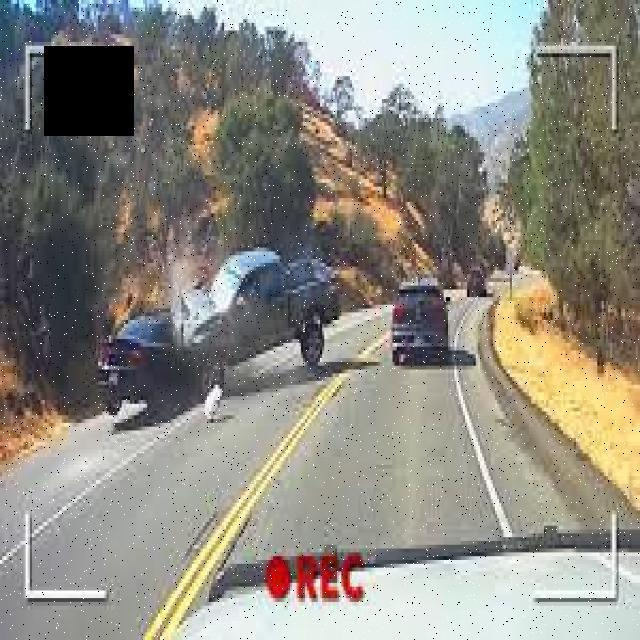multiple_accident: (65, 215, 370, 423)
normal: (378, 250, 487, 390)
